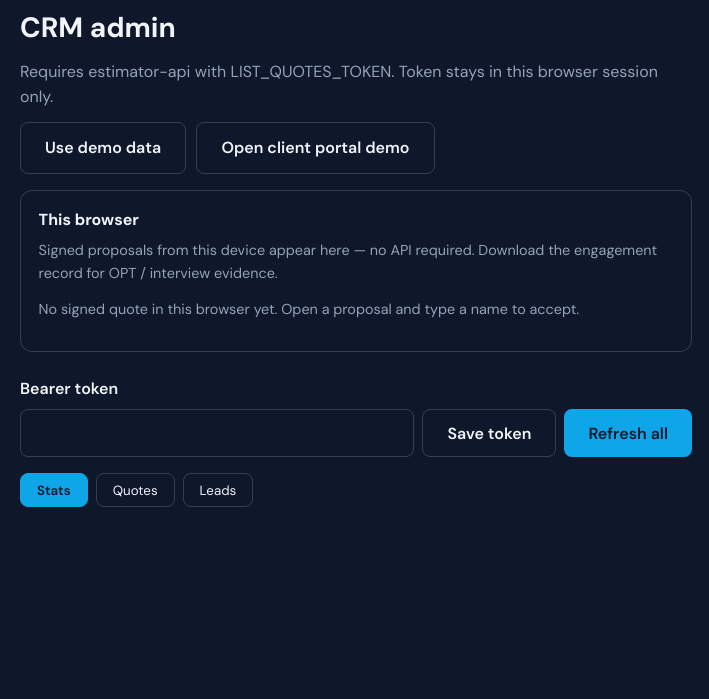
it: CrmAdmin › saves a token, refreshes, and patches live quote and lead status
Later steps or results of the test are not shown.
Type "secret" into the password field labelled "Bearer token".
click(217, 434); type("secret")  # box [20, 410, 414, 458]
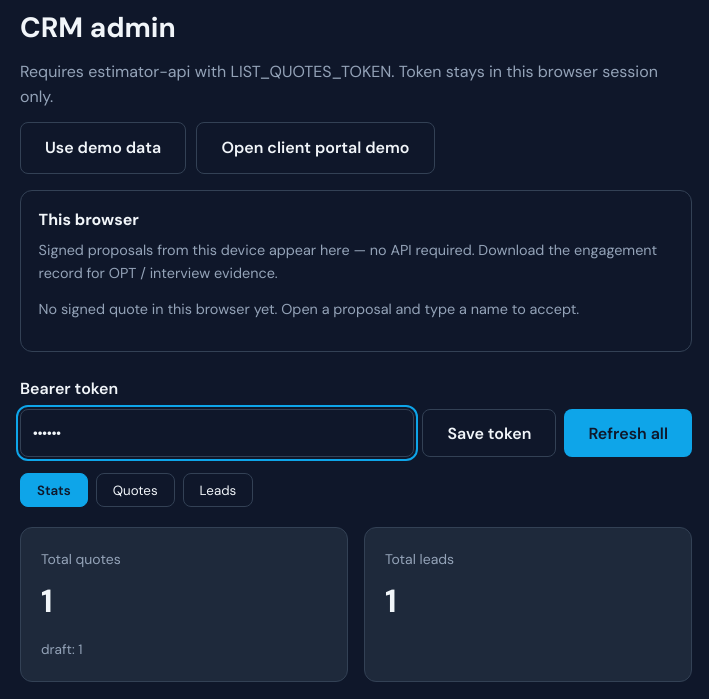
Click the button "Save token".
click(489, 434)  # box [422, 410, 556, 458]
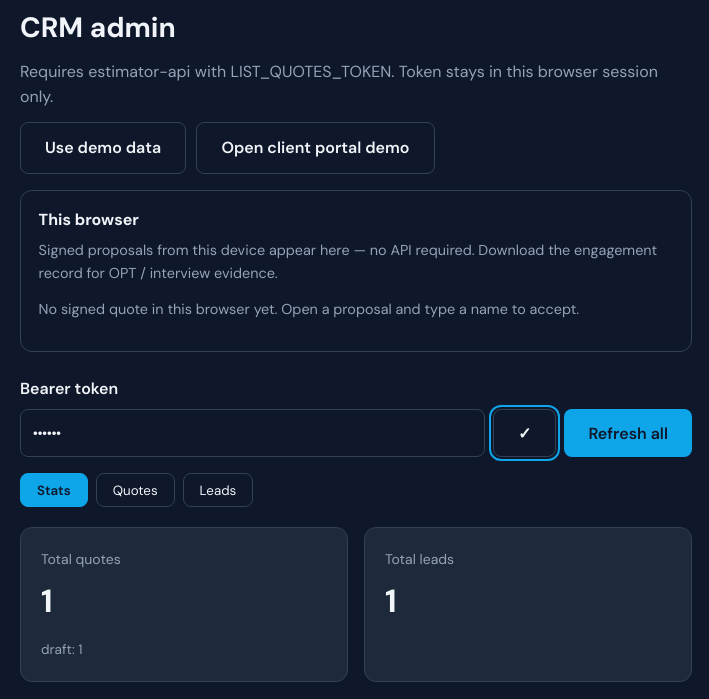
Now the text "1" below "Total quotes" is shown, box [41, 580, 53, 622]
Now the button "✓" is shown, box [493, 410, 556, 458]
